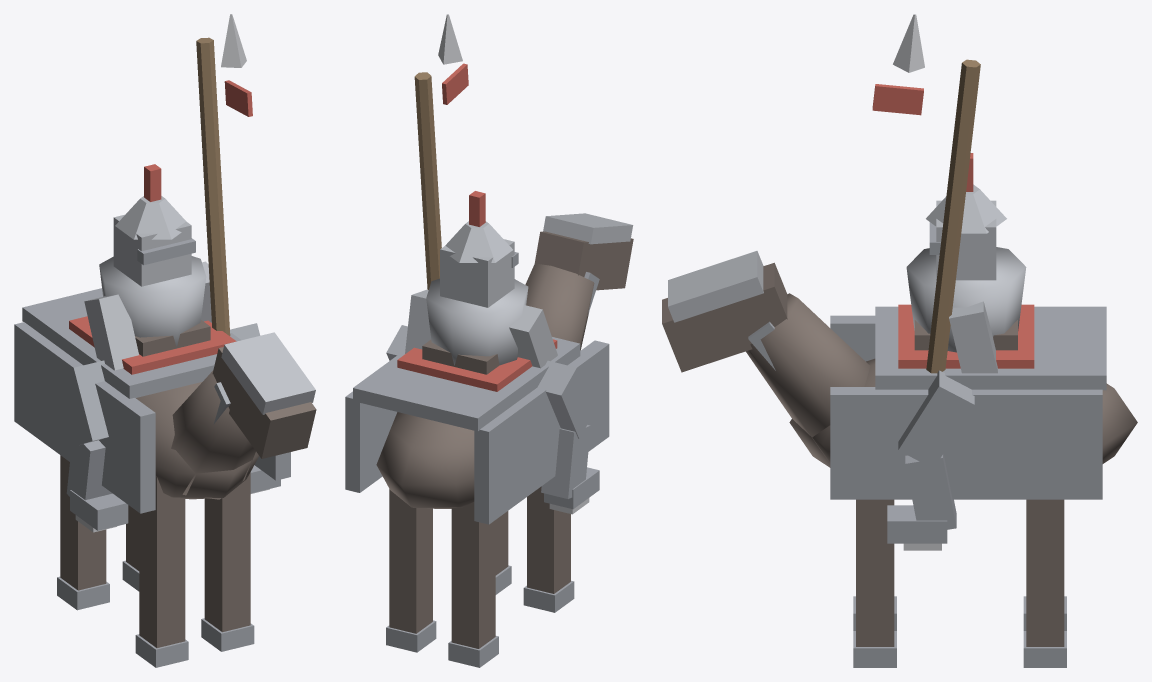
File: troop-cataphract.glb
The picture shows the model from 3 angles, left to right: view 1: azimuth 30°, elevation 25°; view 2: azimuth 150°, elevation 25°; view 3: azimuth 270°, elevation 25°; orthographic projection. The views are drawn at different scales.
Visible parts, largest first — view 1: barding_l, leg_fl, leg_fr, barding_top, lance, rider, neck, chanfron, body, head, leg_bl, rider_head (+17 smaller); view 2: barding_l, barding_top, body, leg_bl, leg_br, rider, leg_fl, neck, lance, head, barding_r, rider_head (+16 smaller); view 3: barding_r, barding_top, neck, lance, head, leg_br, leg_fr, rider, chanfron, rider_thigh_r, saddle_cloth, body (+11 smaller).
Boxes of the visible parts, box(x1,y1,x2,y2) form: barding_l: box(14, 322, 155, 513); leg_fl: box(139, 476, 185, 647); leg_fr: box(204, 472, 250, 632); barding_top: box(22, 288, 241, 398); lance: box(196, 37, 230, 335); rider: box(99, 256, 206, 347); neck: box(171, 370, 255, 499); chanfron: box(221, 332, 315, 414); body: box(136, 382, 258, 499); head: box(212, 347, 316, 458); leg_bl: box(60, 455, 106, 590); rider_head: box(113, 214, 191, 286); barding_l: box(474, 340, 609, 524); barding_top: box(353, 337, 580, 431); body: box(376, 412, 474, 508); leg_bl: box(451, 502, 495, 648); leg_br: box(389, 489, 432, 633); rider: box(426, 278, 528, 365); leg_fl: box(527, 486, 570, 593); neck: box(525, 263, 594, 350); lance: box(414, 72, 441, 289); head: box(534, 231, 633, 290); barding_r: box(345, 391, 397, 492); rider_head: box(440, 239, 514, 307); barding_r: box(830, 387, 1102, 499); barding_top: box(875, 306, 1106, 390); neck: box(746, 293, 870, 463); lance: box(926, 59, 980, 373); head: box(662, 262, 787, 372); leg_br: box(1026, 499, 1064, 646); leg_fr: box(856, 499, 894, 646); rider: box(906, 247, 1026, 352); chanfron: box(668, 251, 763, 322); rider_thigh_r: box(898, 370, 974, 468); saddle_cloth: box(898, 304, 1034, 368); body: box(789, 358, 1137, 467).
Size of the model in its own units: 0.168 by 0.532 by 0.3495.
